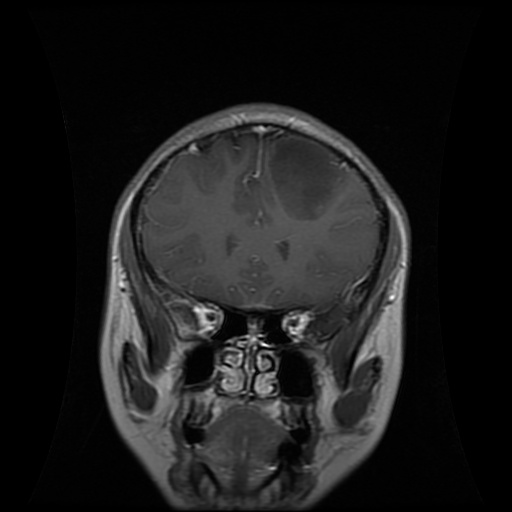glioma: (263, 135, 341, 221)
